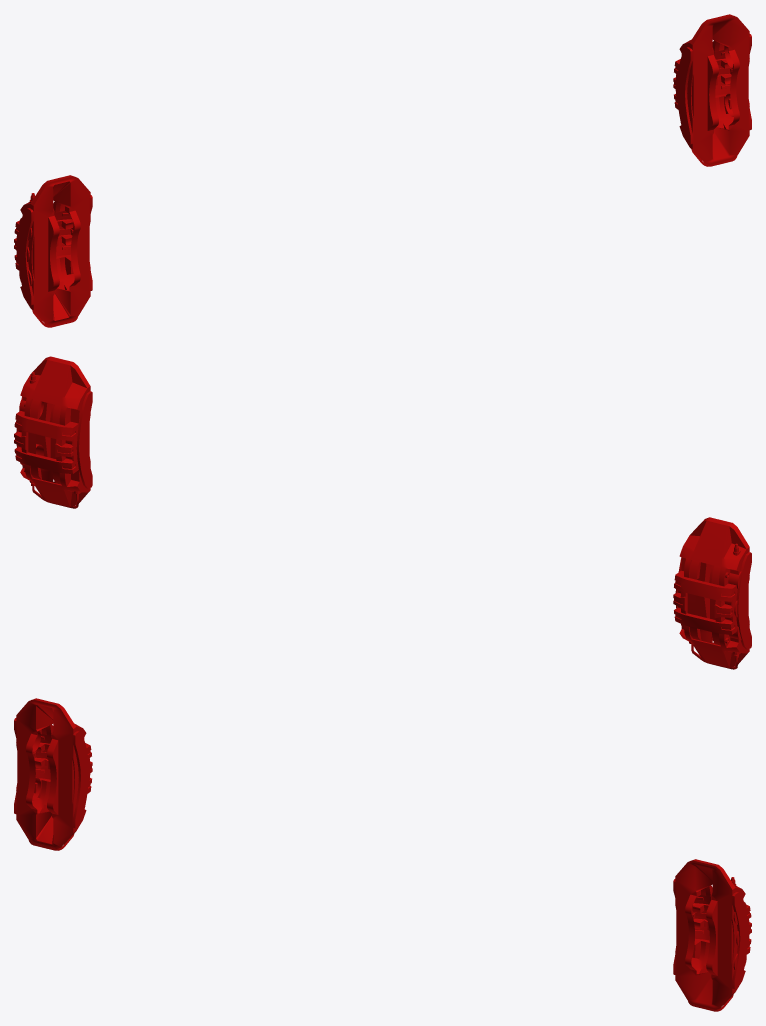
Rendered from body_red_0.glb.
3 renders of one model, top to bottom at view 1: azimuth 30°, elevation 25°; view 2: azimuth 150°, elevation 25°; view 3: azimuth 330°, elevation 25°, orthographic.
Visible parts, largest first — view 1: body_red_0; view 2: body_red_0; view 3: body_red_0.
Boxes of the visible parts, box(x1,y1,x2,y2) form: body_red_0: box(14, 14, 751, 327); body_red_0: box(14, 356, 751, 669); body_red_0: box(14, 698, 751, 1011).
Size of the model in its own units: 2.35 by 0.4535 by 0.1516.
